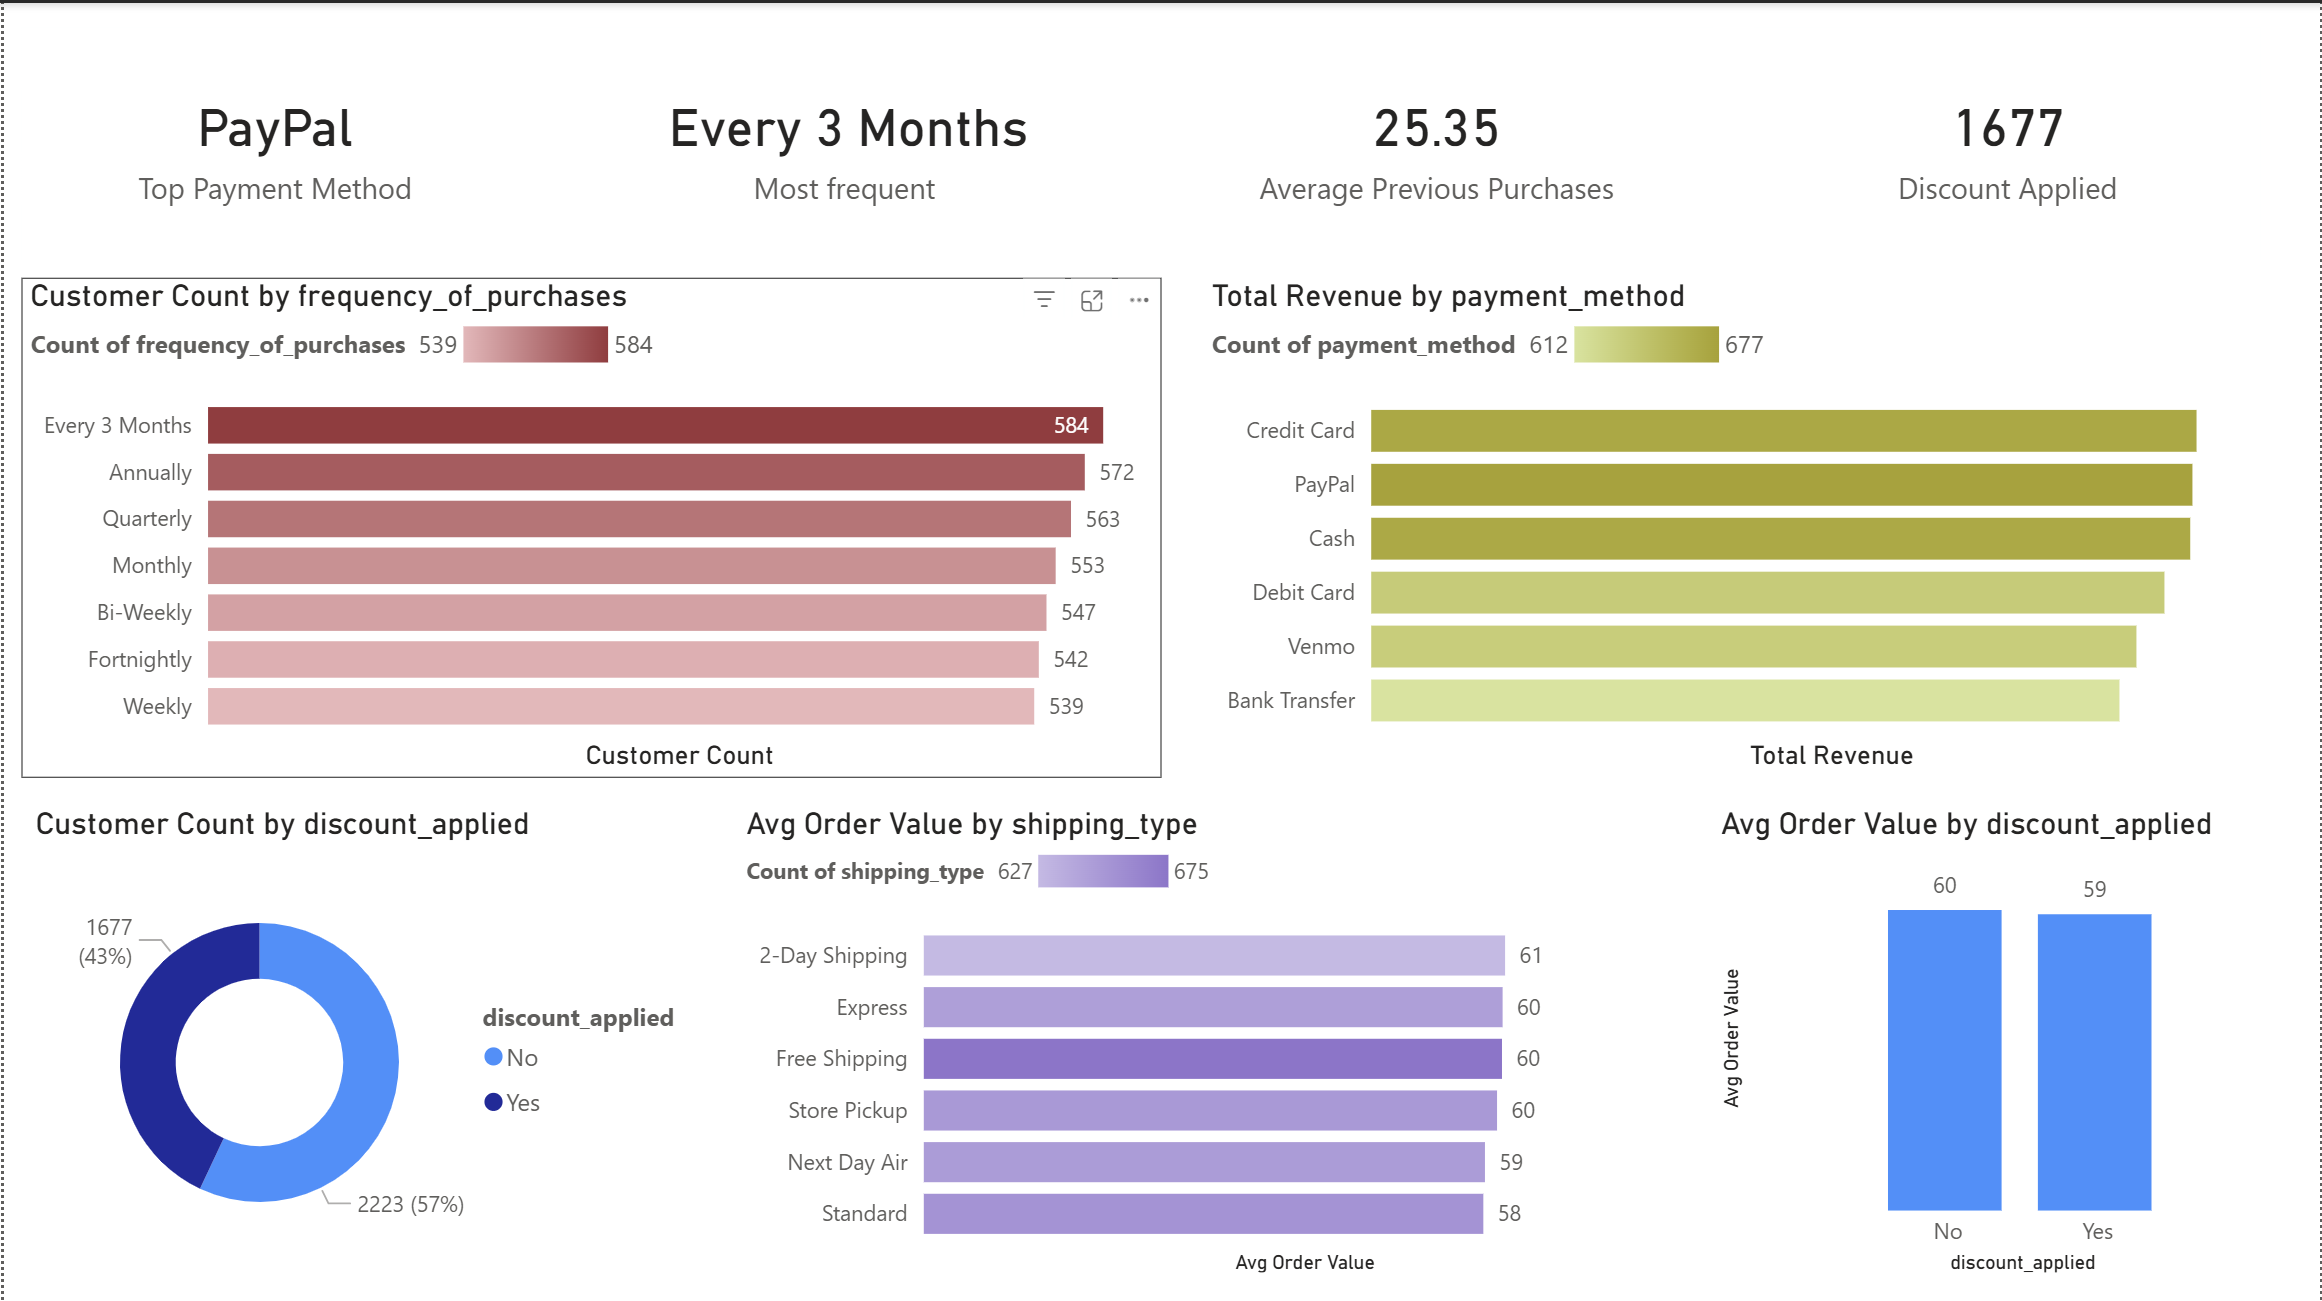

This screenshot's page, from the dashboard's own definition file:
{"tool":"powerbi","page":{"name":"Behaviour","canvas":[1280,720],"ordinal":3},"visuals":[{"type":"card","fields":{"Values":["Min(CustomerData.payment_method)"]},"box":[9.9,13.6,280.2,128.4],"z":0},{"type":"card","fields":{"Values":["Avg(CustomerData.previous_purchases)"]},"box":[639.5,13.6,304.9,128.4],"z":1000},{"type":"card","fields":{"Values":["Min(CustomerData.frequency_of_purchases)"]},"box":[317.3,13.6,298.8,128.4],"z":2000},{"type":"card","fields":{"Values":["CountNonNull(CustomerData.discount_applied)"]},"box":[967.9,13.6,280.2,128.4],"z":3000},{"type":"clusteredBarChart","fields":{"Category":["CustomerData.frequency_of_purchases"],"Y":["Table.Customer Count"]},"box":[9.9,151.9,629.6,276.5],"z":4000},{"type":"clusteredBarChart","fields":{"Category":["CustomerData.payment_method"],"Y":["Table.Total Revenue"]},"box":[663,151.9,607.4,276.5],"z":5000},{"type":"donutChart","fields":{"Category":["CustomerData.discount_applied"],"Y":["Table.Customer Count"]},"box":[12.3,444.4,379,264.2],"z":6000},{"type":"clusteredBarChart","fields":{"Category":["CustomerData.shipping_type"],"Y":["Table.Avg Order Value"]},"box":[404.9,444.4,529.6,263],"z":7000},{"type":"clusteredColumnChart","fields":{"Category":["CustomerData.discount_applied"],"Y":["Table.Avg Order Value"]},"box":[944.4,444.4,325.9,263],"z":8000}]}

Visuals, with their boxes in screenshot pixels (x1, y1, x2, y2), scaled from the page's 1280x720 canvas onto the 2322x1301 screenshot:
card - Min(CustomerData.payment_method): 18,25,526,257
card - Avg(CustomerData.previous_purchases): 1160,25,1713,257
card - Min(CustomerData.frequency_of_purchases): 576,25,1118,257
card - CountNonNull(CustomerData.discount_applied): 1756,25,2264,257
clusteredBarChart - CustomerData.frequency_of_purchases x Table.Customer Count: 18,274,1160,774
clusteredBarChart - CustomerData.payment_method x Table.Total Revenue: 1203,274,2305,774
donutChart - CustomerData.discount_applied x Table.Customer Count: 22,803,710,1280
clusteredBarChart - CustomerData.shipping_type x Table.Avg Order Value: 735,803,1695,1278
clusteredColumnChart - CustomerData.discount_applied x Table.Avg Order Value: 1713,803,2304,1278
